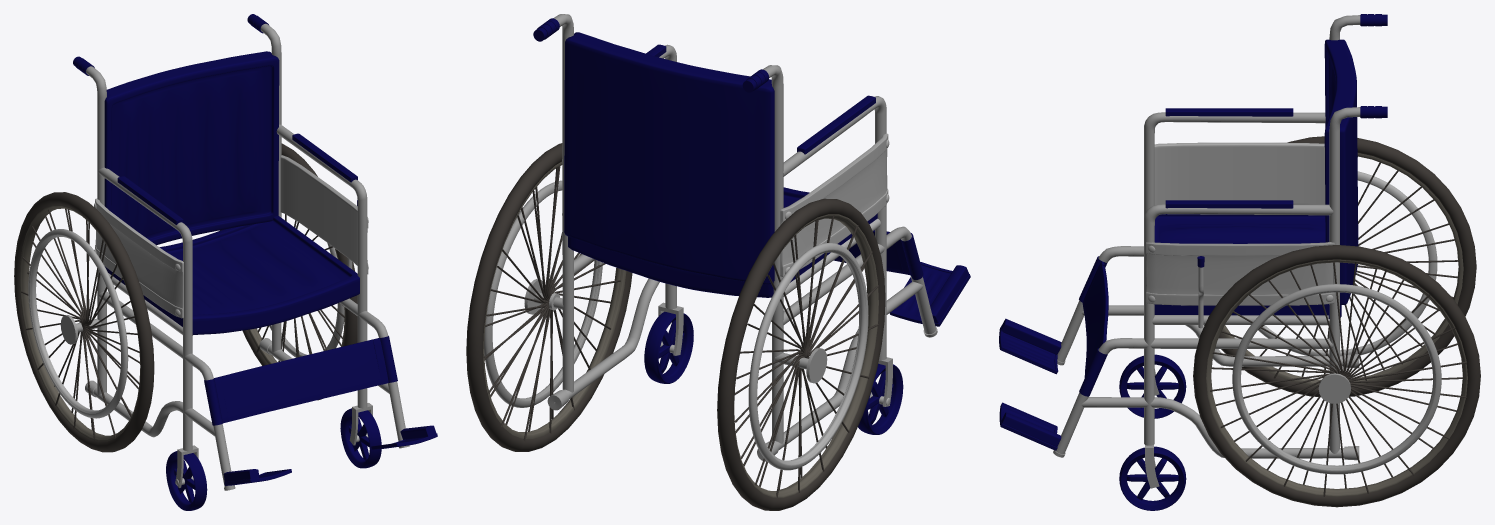
The model's file is Wheel Chair .fbx.
3 renders of one model, left to right at view 1: azimuth 30°, elevation 25°; view 2: azimuth 150°, elevation 25°; view 3: azimuth 270°, elevation 25°, orthographic. The views are drawn at different scales.
Visible parts, largest first — view 1: pCube121, pCube119, pTorus1 (×2), pCube125, pCube123, pTorus3 (×2), pCube124, pTorus4 (×2), pTorus2, pCylinder20, pCylinder14, pCylinder12 (+7 smaller); view 2: pCube121, pTorus1 (×2), pTorus3 (×2), pTorus2 (×2), pCube124, pCube119, pTorus4 (×2), pCylinder12, pCylinder10, pCylinder15, pCylinder20, pCylinder19 (+6 smaller); view 3: pTorus1 (×2), pCube124, pCube123, pTorus3 (×2), pTorus2 (×2), pCube119, pCube121, pCylinder14, pTorus4 (×2), pCylinder10, pCylinder13, pCylinder15 (+13 smaller).
Boxes of the visible parts, <box> form: pCube121: <box>104,51,279,245</box>; pCube119: <box>104,216,359,334</box>; pTorus1 (×2): <box>14,143,357,452</box>; pCube125: <box>219,338,388,421</box>; pCube123: <box>280,155,368,274</box>; pTorus3 (×2): <box>28,229,344,418</box>; pCube124: <box>95,198,183,318</box>; pTorus4 (×2): <box>166,408,381,510</box>; pTorus2: <box>19,205,140,441</box>; pCylinder20: <box>98,167,192,451</box>; pCylinder14: <box>276,124,367,408</box>; pCylinder12: <box>86,66,106,394</box>; pCube121: <box>564,32,774,284</box>; pTorus1 (×2): <box>466,143,885,510</box>; pTorus3 (×2): <box>484,180,868,470</box>; pTorus2 (×2): <box>483,161,878,497</box>; pCube124: <box>780,133,888,276</box>; pCube119: <box>568,187,877,297</box>; pTorus4 (×2): <box>644,311,903,434</box>; pCylinder12: <box>762,65,783,443</box>; pCylinder10: <box>553,14,573,392</box>; pCylinder15: <box>547,278,659,410</box>; pCylinder20: <box>783,96,886,360</box>; pCylinder19: <box>783,226,937,337</box>; pTorus1 (×2): <box>1193,136,1480,507</box>; pCube124: <box>1154,142,1325,205</box>; pCube123: <box>1146,242,1334,305</box>; pTorus3 (×2): <box>1232,171,1441,474</box>; pTorus2 (×2): <box>1206,153,1467,496</box>; pCube119: <box>1154,214,1341,318</box>; pCube121: <box>1324,39,1358,304</box>; pCylinder14: <box>1144,204,1333,445</box>; pTorus4 (×2): <box>1119,354,1186,510</box>; pCylinder10: <box>1329,107,1360,453</box>; pCylinder13: <box>1053,338,1333,457</box>; pCylinder15: <box>1081,397,1359,460</box>.
Bounding box in the file's own units: 5.95 × 8.93 × 9.69.
